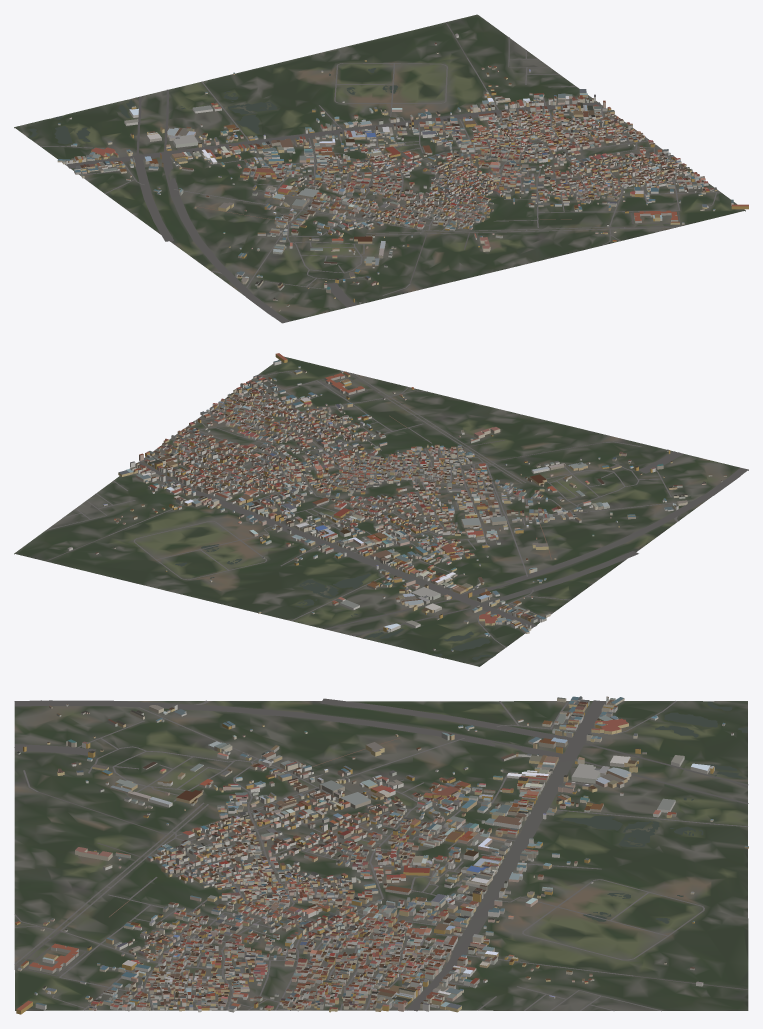
3 views of the same model, one above another, from view 1: azimuth 30°, elevation 25°; view 2: azimuth 150°, elevation 25°; view 3: azimuth 270°, elevation 25° (orthographic). The views are drawn at different scales.
Parts seen in each view (by area): view 1: ground, buildings, roads, water; view 2: ground, buildings, roads, water; view 3: ground, buildings, roads, water.
Part boxes in pixels (x1,y1,x2,y2): ground: [14, 14, 745, 321]; buildings: [57, 33, 748, 311]; roads: [40, 22, 720, 323]; water: [28, 68, 397, 144]; ground: [14, 356, 748, 666]; buildings: [67, 353, 726, 651]; roads: [45, 371, 748, 647]; water: [175, 544, 493, 660]; ground: [14, 701, 748, 1010]; buildings: [15, 696, 748, 1014]; roads: [14, 698, 748, 1011]; water: [563, 701, 747, 923].
Bounding box in the file's own units: 1428 × 20.58 × 1405.
